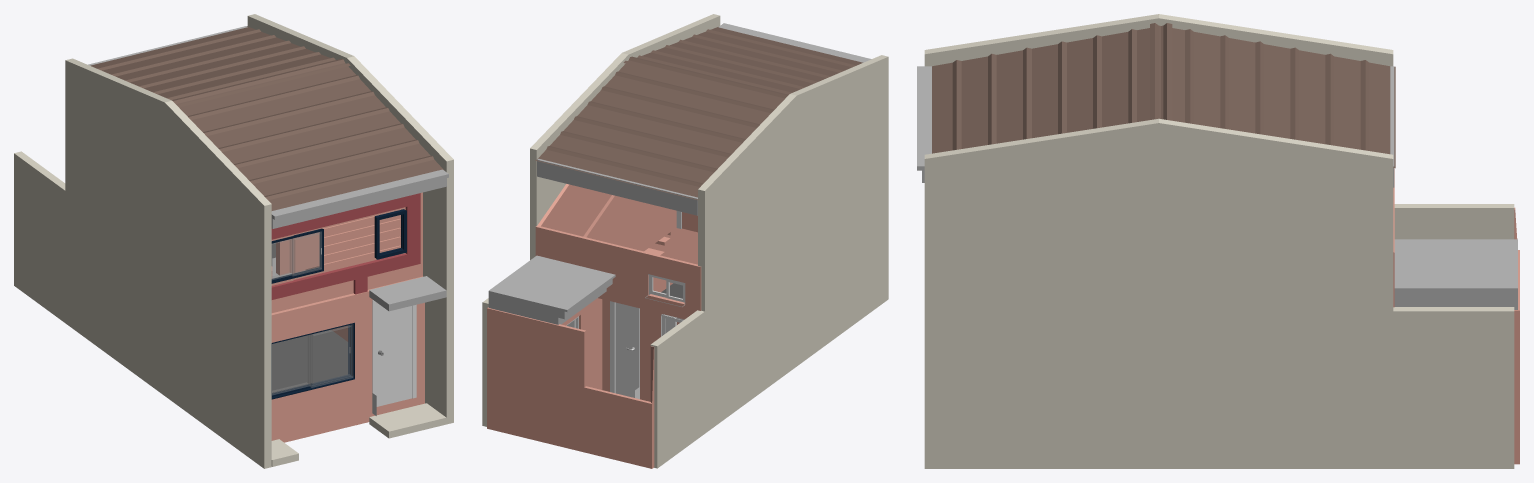
Rendered from housemodel.glb.
The picture shows the model from 3 angles, left to right: view 1: azimuth 30°, elevation 25°; view 2: azimuth 150°, elevation 25°; view 3: azimuth 270°, elevation 25°; orthographic projection. The views are drawn at different scales.
Parts seen in each view (by area): view 1: Cube.003, Plane, Wall.001, wall.003, Cube.007, roof, Floor.001, Door.010, Window.L.009, Window.R.007, Cube.001, Cube.006 (+7 smaller); view 2: Cube.003, Plane, Wall.001, wall.003, Roof.001, roof, Door.008, DoorFrame.008; view 3: Cube.003, Plane, Roof.001, roof, Wall.001.
Part boxes in pixels (x1,y1,x2,y2): Cube.003: [14, 14, 453, 468]; Plane: [90, 26, 444, 210]; Wall.001: [271, 266, 424, 442]; wall.003: [271, 192, 422, 312]; Cube.007: [271, 193, 420, 299]; roof: [88, 26, 448, 228]; Floor.001: [272, 330, 348, 392]; Door.010: [376, 303, 412, 406]; Window.L.009: [309, 324, 353, 387]; Window.R.007: [272, 335, 310, 394]; Cube.001: [369, 403, 446, 438]; Cube.006: [369, 276, 446, 311]; Cube.003: [482, 14, 888, 468]; Plane: [535, 27, 862, 200]; Wall.001: [487, 228, 697, 468]; wall.003: [535, 184, 701, 319]; Roof.001: [488, 255, 615, 324]; roof: [537, 23, 871, 215]; Door.008: [615, 302, 634, 397]; DoorFrame.008: [610, 301, 639, 399]; Cube.003: [924, 14, 1514, 468]; Plane: [932, 23, 1395, 168]; Roof.001: [1394, 239, 1517, 309]; roof: [917, 66, 1394, 187]; Wall.001: [1514, 207, 1519, 464].
Bounding box in the file's own units: 3.86 × 5.71 × 9.02.
